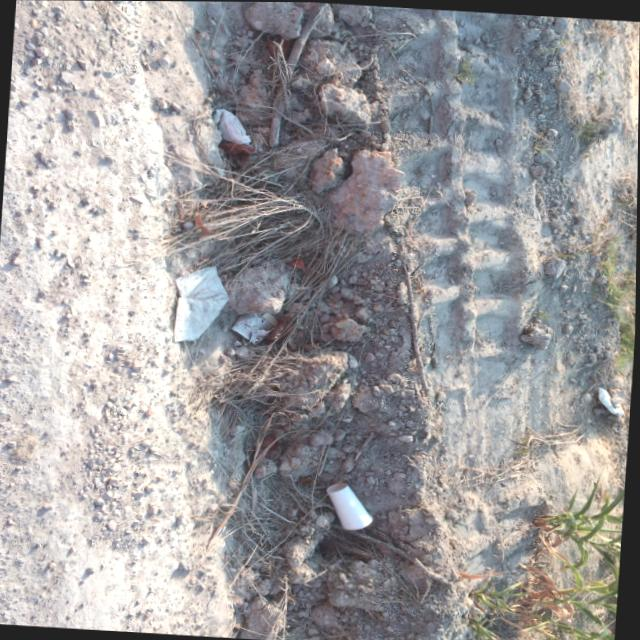Paper: (319, 479, 387, 537)
Plastic: (168, 258, 235, 346), (205, 97, 267, 156), (228, 301, 289, 349), (591, 383, 633, 421)
